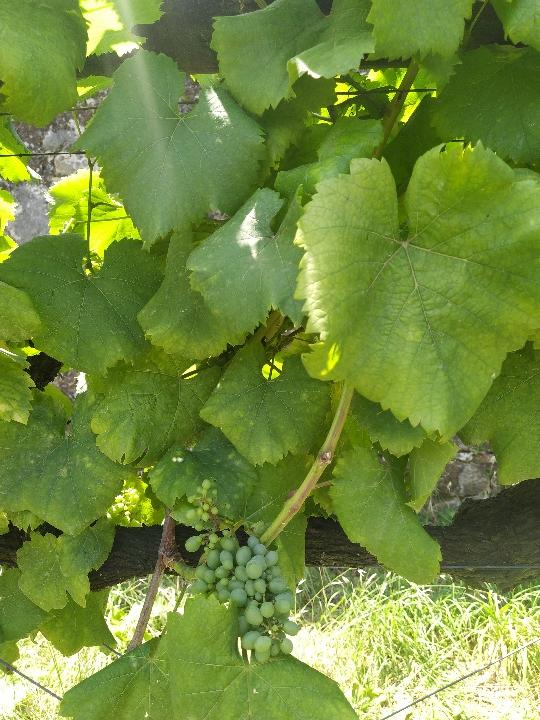grape: (188, 528, 301, 666)
